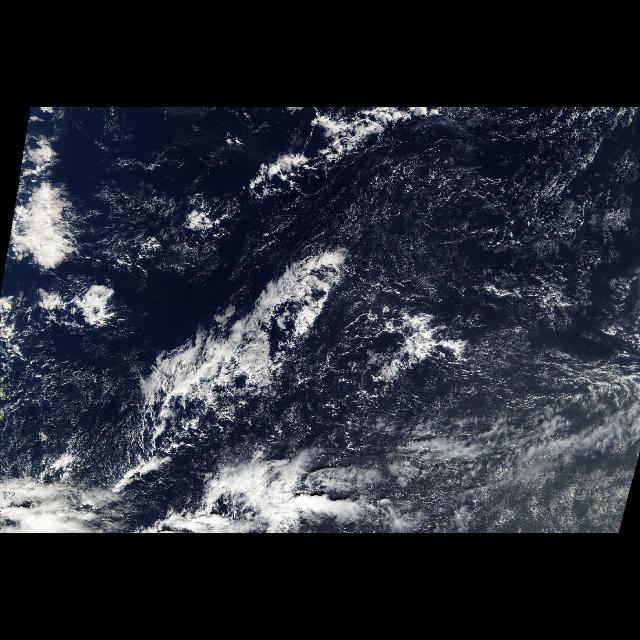Fish: (106, 243, 352, 492)
Sugar: (380, 132, 640, 316)
